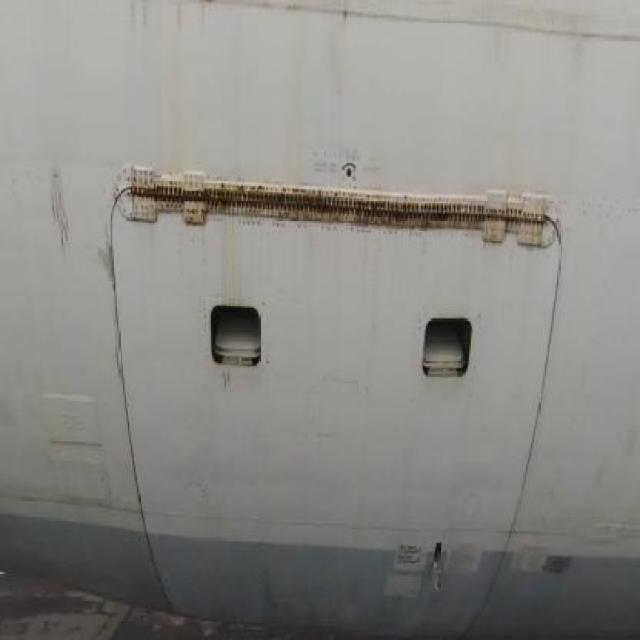Scartch: (200, 122, 354, 242)
